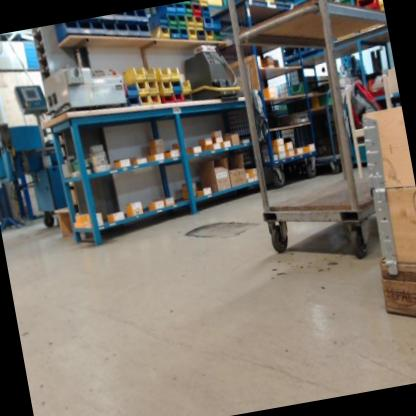pallet: (376, 253, 416, 331)
